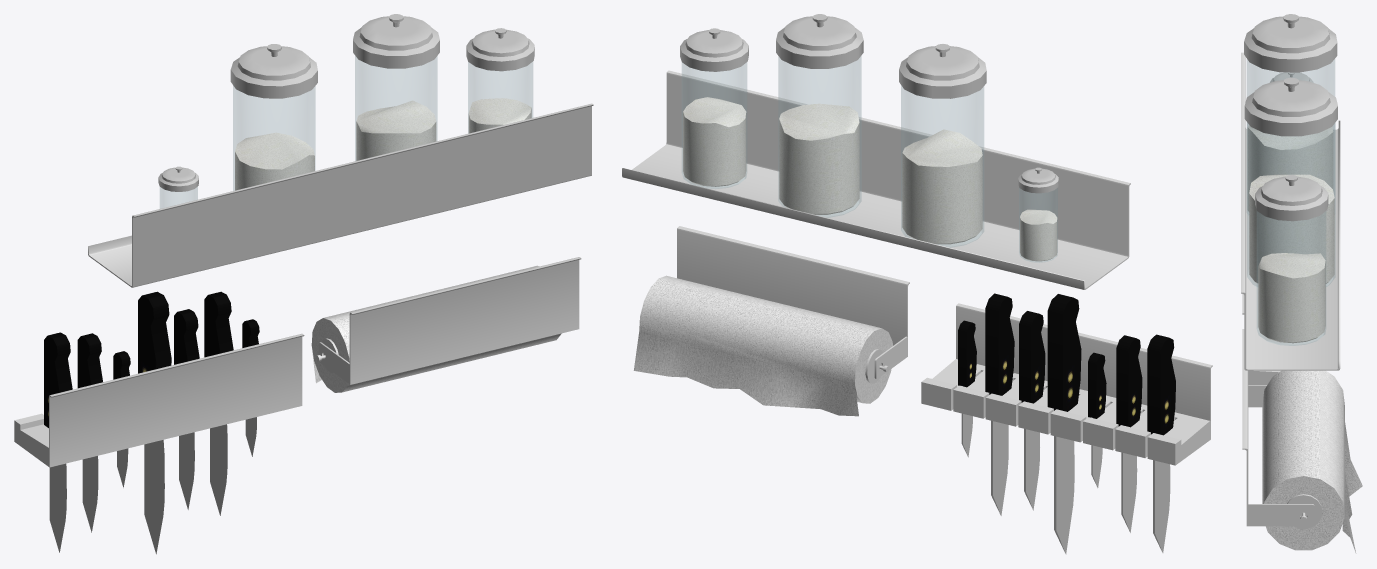
File: Kit01.fbx
3 renders of one model, left to right at view 1: azimuth 30°, elevation 25°; view 2: azimuth 150°, elevation 25°; view 3: azimuth 270°, elevation 25°, orthographic. The views are drawn at different scales.
Parts seen in each view (by area): view 1: Shelf, Base, Bottle (×3), Support, Cap (×4), Content (×3), Handle (×5), Blade (×5), Roll; view 2: Bottle (×4), Shelf, Content (×4), Roll, Base, Handle (×7), Support, Cap (×4), Blade (×5); view 3: Bottle (×3), Content (×3), Roll, Cap (×4), Shelf, Support, Base.
Boxes of the visible parts, x1,y1,x2,y2 form: Shelf: [88, 103, 593, 287]; Base: [14, 333, 304, 467]; Bottle (×3): [233, 56, 532, 190]; Support: [316, 257, 581, 384]; Cap (×4): [158, 14, 534, 191]; Content (×3): [235, 98, 531, 190]; Handle (×5): [44, 291, 233, 427]; Blade (×5): [49, 424, 227, 554]; Roll: [311, 265, 561, 392]; Bottle (×4): [682, 56, 1057, 262]; Shelf: [622, 70, 1130, 289]; Content (×4): [683, 97, 1057, 261]; Roll: [633, 275, 892, 416]; Base: [921, 303, 1212, 465]; Handle (×7): [958, 293, 1175, 435]; Support: [677, 226, 909, 383]; Cap (×4): [680, 14, 1058, 193]; Blade (×5): [991, 420, 1170, 554]; Bottle (×3): [1247, 59, 1335, 345]; Content (×3): [1247, 125, 1334, 343]; Roll: [1262, 370, 1362, 553]; Cap (×4): [1244, 14, 1337, 221]; Shelf: [1241, 52, 1340, 370]; Support: [1242, 329, 1322, 528]; Base: [1242, 294, 1280, 384].
Bounding box in the file's own units: 0.993 × 0.8363 × 0.1808.
